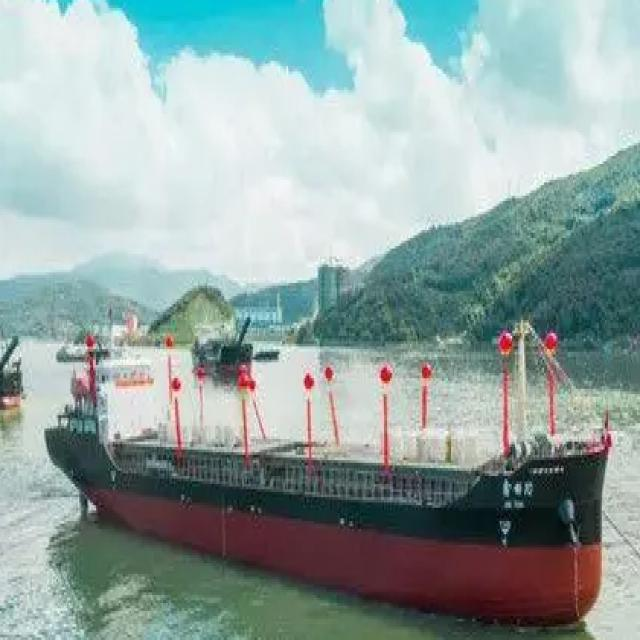cargoship: (45, 304, 616, 634)
